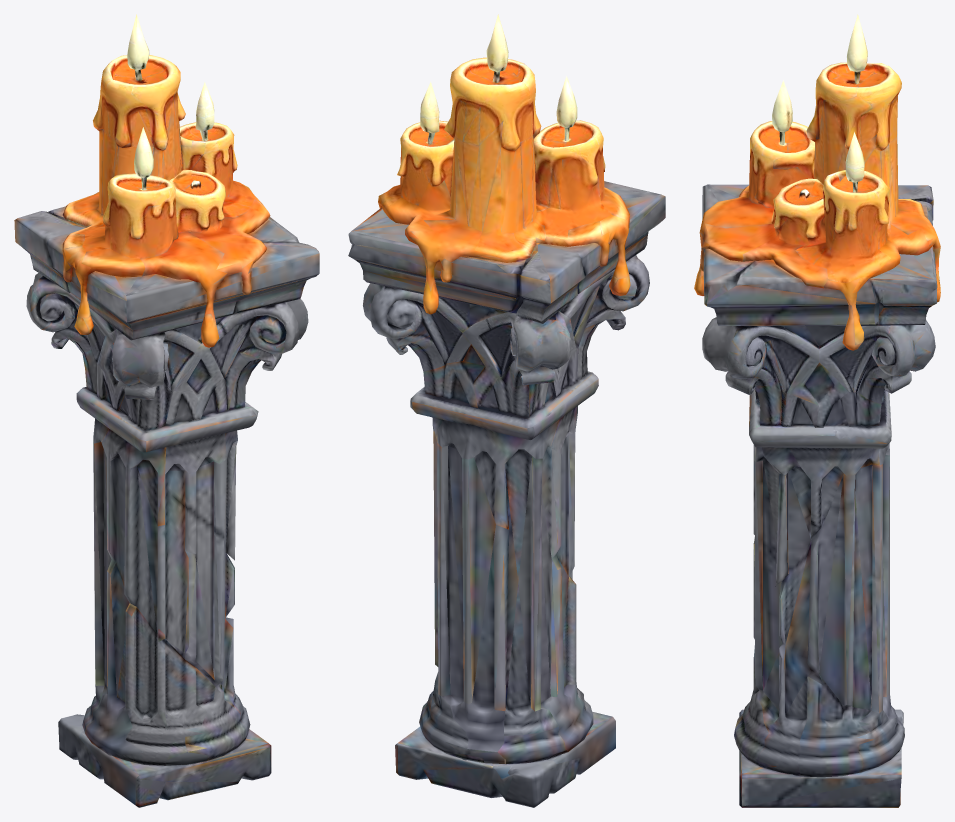
File: prop_pillar.glb
3 views of the same model, side by side, from view 1: azimuth 30°, elevation 25°; view 2: azimuth 150°, elevation 25°; view 3: azimuth 270°, elevation 25° (orthographic). The views are drawn at different scales.
Parts seen in each view (by area): view 1: prop_pillar; view 2: prop_pillar; view 3: prop_pillar.
Part boxes in pixels (x1,y1,x2,y2): prop_pillar: (14,14,319,807); prop_pillar: (348,14,665,807); prop_pillar: (694,14,940,807).
Bounding box in the file's own units: 1.09 × 3.6 × 1.06.
1 material, 1 textured.
